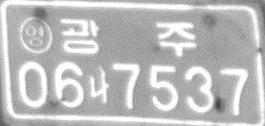0: (16, 60, 48, 108)
3: (183, 65, 214, 114)
5: (149, 63, 178, 112)
6: (53, 60, 84, 107)
7: (219, 67, 249, 115), (112, 62, 141, 111)
광주_D: (59, 17, 197, 58)
나: (87, 65, 110, 103)
영: (17, 15, 53, 54)
